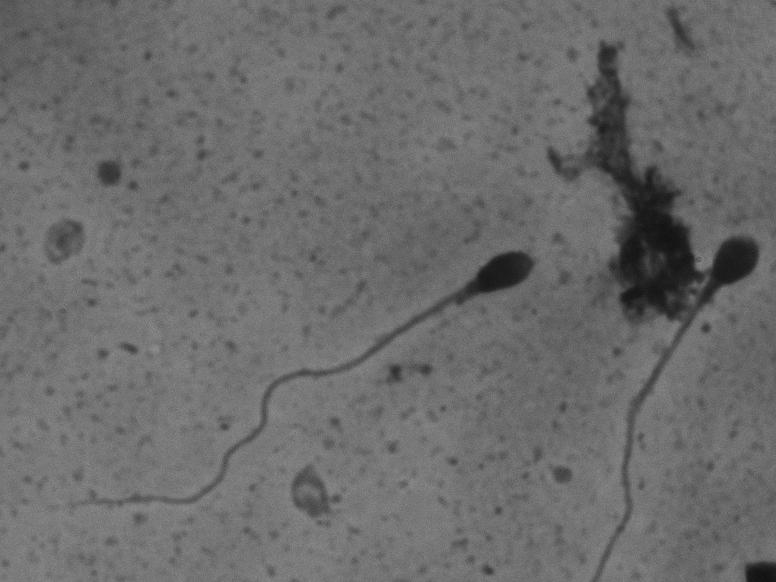Normal: (49, 205, 541, 537), (579, 211, 772, 571)
